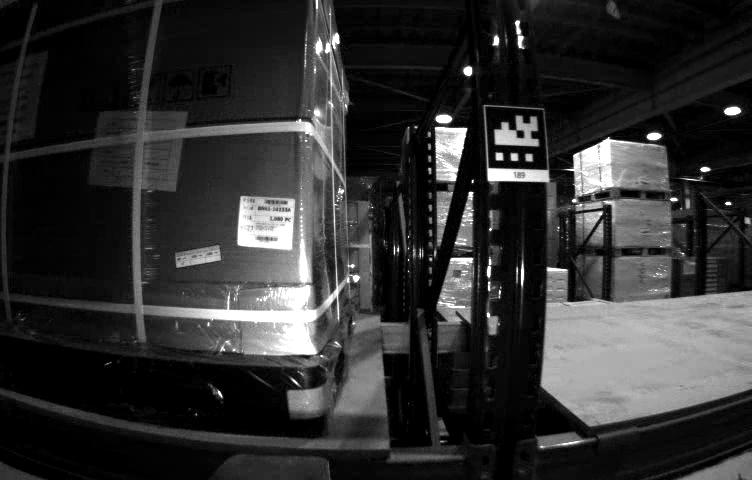True Barcode: (237, 191, 293, 254)
